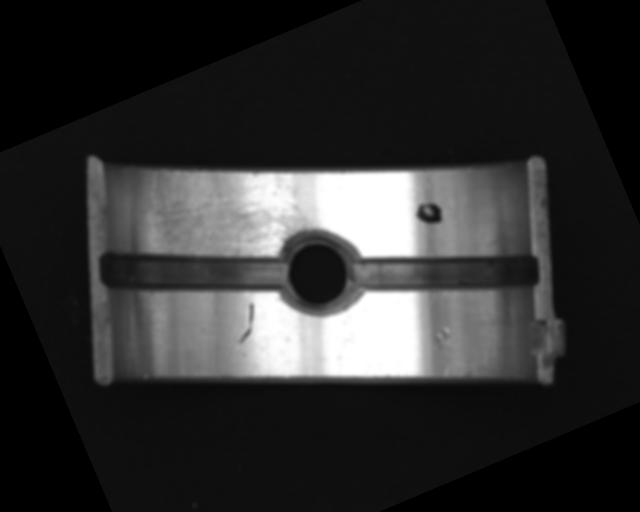blot: (411, 196, 446, 230)
bruise: (426, 322, 462, 357)
gap: (93, 190, 295, 351), (351, 197, 543, 345)
hole: (265, 219, 371, 325)
nick: (224, 299, 266, 345)
scratch: (126, 119, 324, 302)
